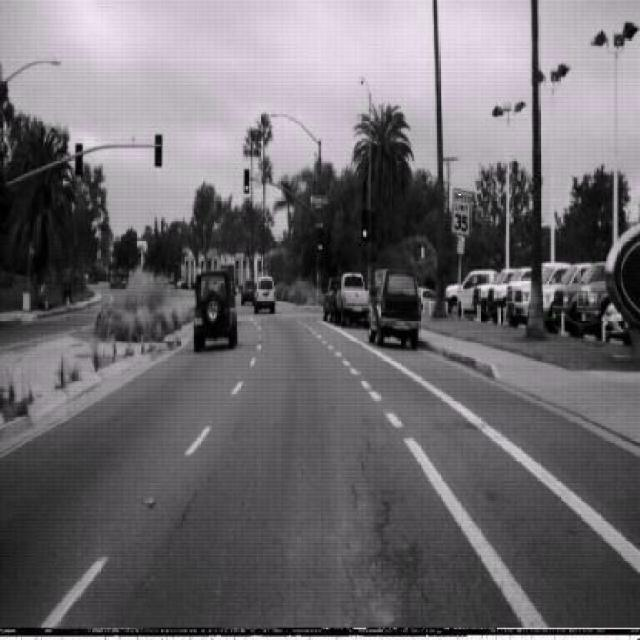speedLimit35: (452, 186, 474, 238)
